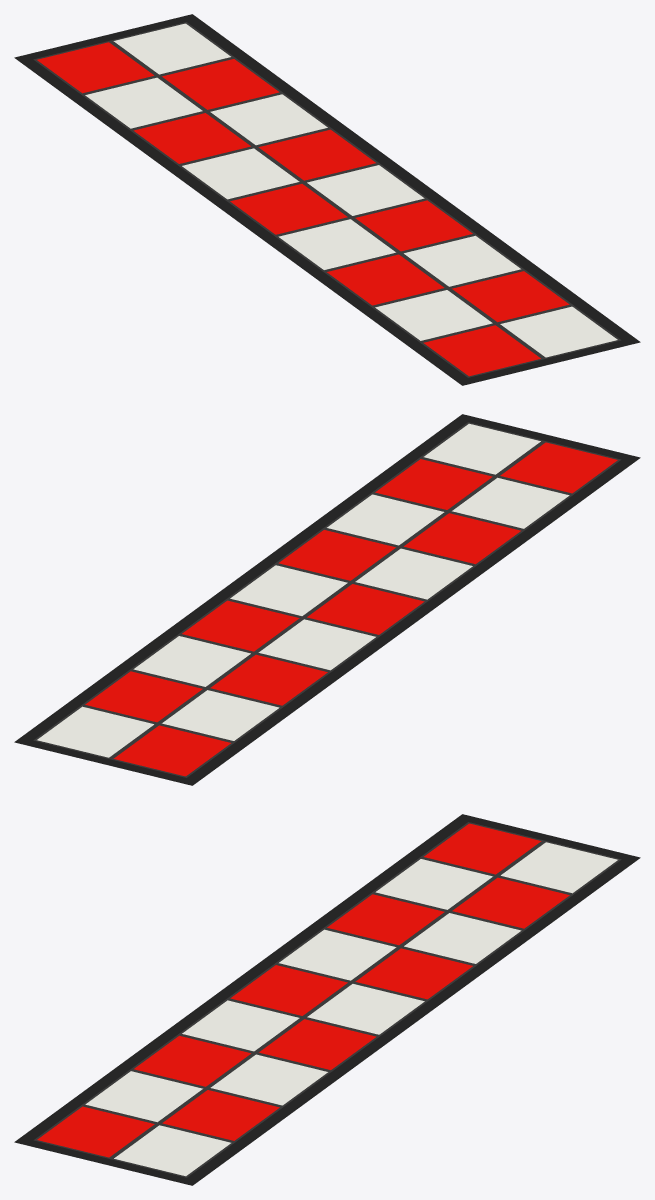
Rendered from FinishLine.fbx.
The picture shows the model from 3 angles, top to bottom: view 1: azimuth 30°, elevation 25°; view 2: azimuth 150°, elevation 25°; view 3: azimuth 330°, elevation 25°; orthographic projection.
Visible parts, largest first — view 1: FinishLine; view 2: FinishLine; view 3: FinishLine.
Part boxes in pixels (box(x1,y1,x2,y2)): FinishLine: box(14, 14, 640, 385); FinishLine: box(14, 414, 640, 785); FinishLine: box(14, 814, 640, 1185).
Size of the model in its own units: 0.1445 by 6.45e-08 by 0.6287.
